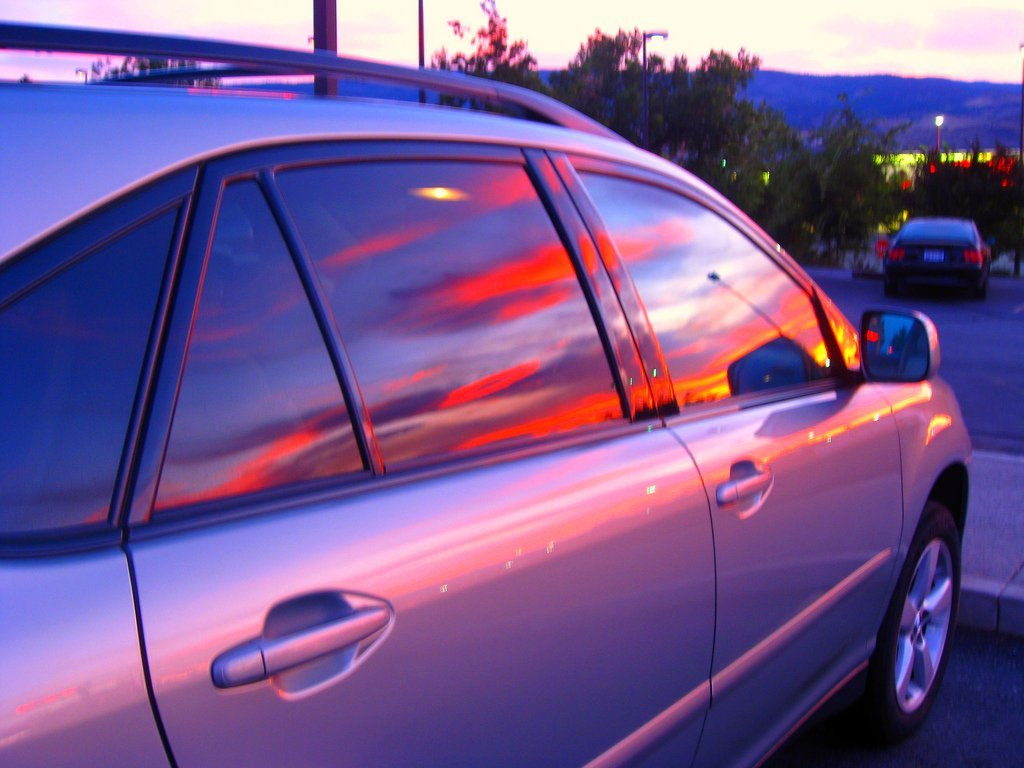Car: (0, 25, 972, 767), (883, 213, 984, 297)
